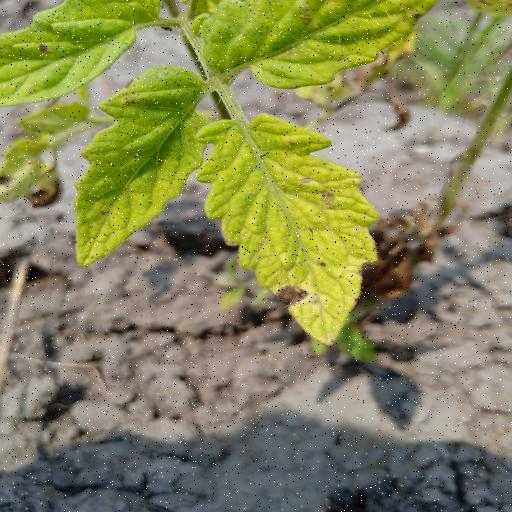Tomato_Brown_Spots: (193, 116, 384, 354)
